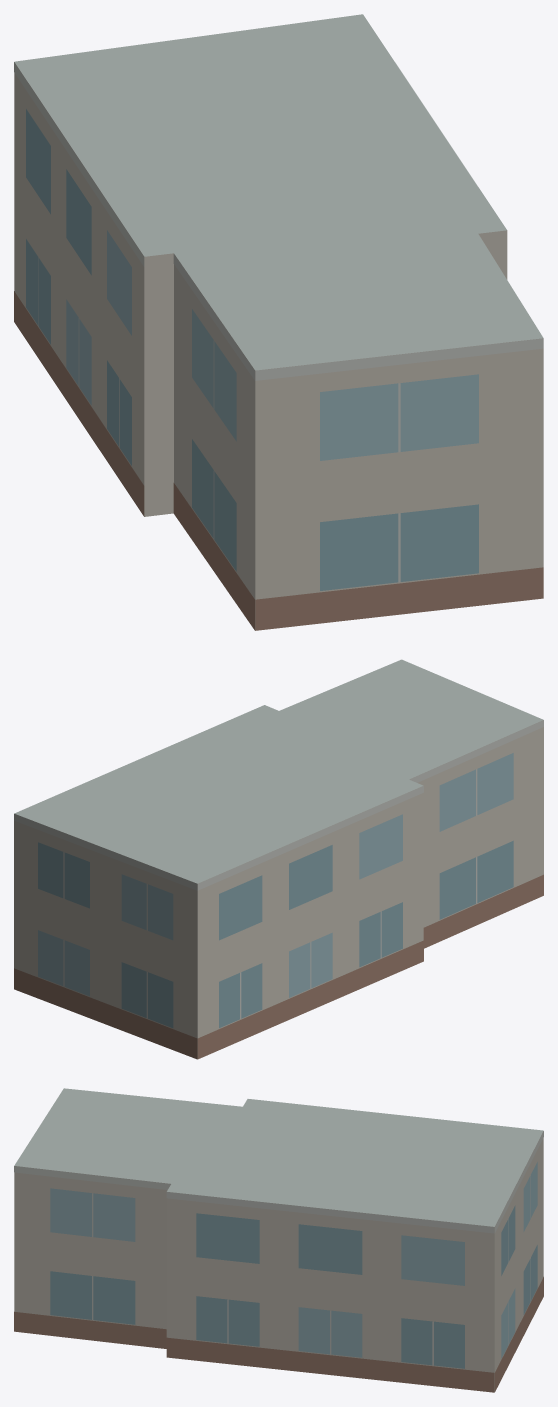
File: survey-upis-32823953.glb
3 renders of one model, top to bottom at view 1: azimuth 30°, elevation 25°; view 2: azimuth 150°, elevation 25°; view 3: azimuth 270°, elevation 25°, orthographic. The views are drawn at different scales.
Visible parts, largest first — view 1: survey-upis-32823953.tmp; view 2: survey-upis-32823953.tmp; view 3: survey-upis-32823953.tmp.
Part boxes in pixels (x1,y1,x2,y2): survey-upis-32823953.tmp: [14, 14, 543, 630]; survey-upis-32823953.tmp: [14, 659, 543, 1059]; survey-upis-32823953.tmp: [14, 1088, 543, 1392].
Bounding box in the file's own units: 10.96 × 6.1 × 17.68.
